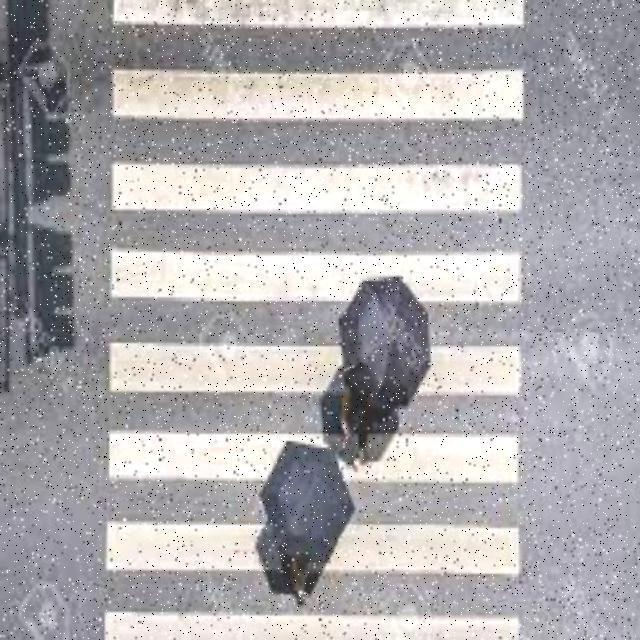Pedestrian crosswalk: (91, 0, 537, 637)
